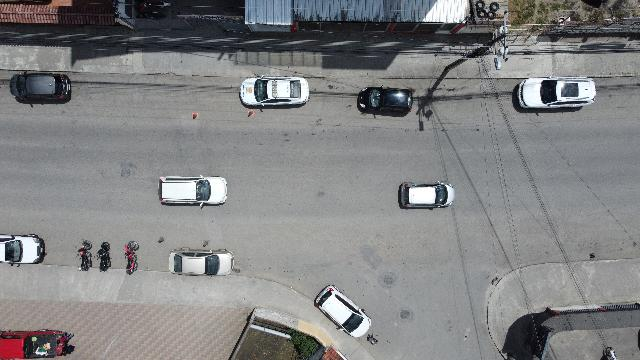Vehiculo: (313, 284, 371, 338), (516, 77, 596, 109), (239, 76, 309, 108), (158, 176, 228, 208), (1, 329, 74, 359), (9, 72, 71, 102), (168, 248, 234, 276), (357, 86, 413, 114), (399, 181, 455, 209), (0, 234, 46, 264)
